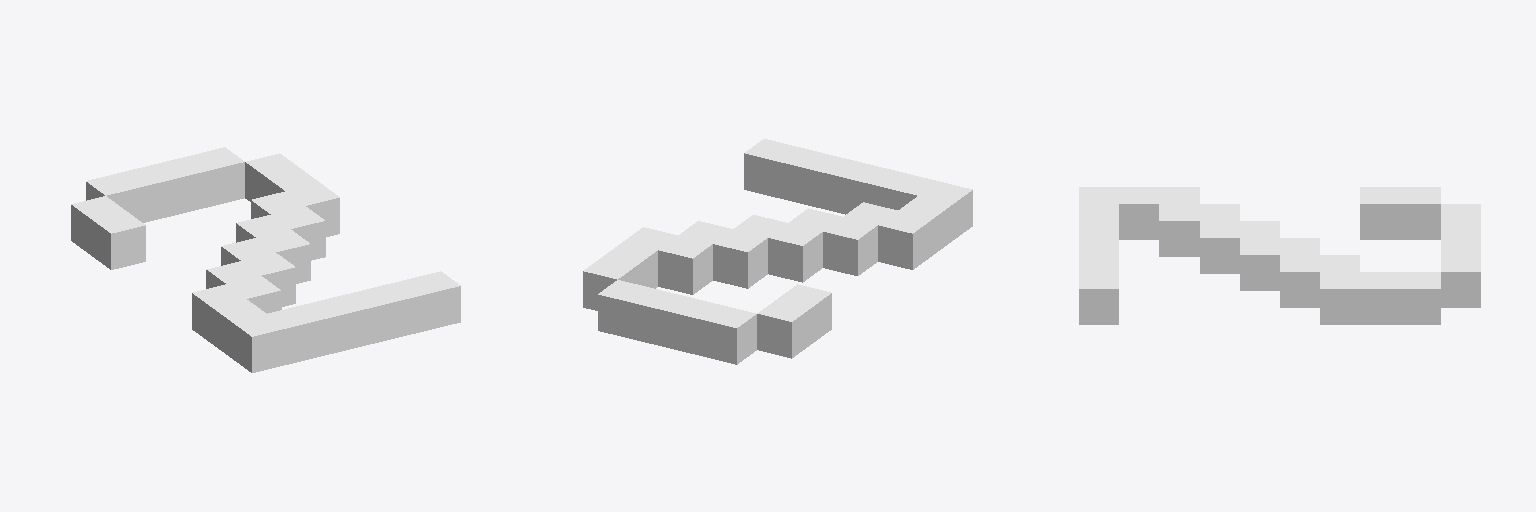
File: numeric2.obj
The picture shows the model from 3 angles: view 1: azimuth 30°, elevation 25°; view 2: azimuth 150°, elevation 25°; view 3: azimuth 270°, elevation 25°; orthographic projection.
Visible parts, largest first — view 1: object 1; view 2: object 1; view 3: object 1.
Part boxes in pixels (bbox=[...]): object 1: bbox=[71, 147, 460, 372]; object 1: bbox=[583, 139, 972, 364]; object 1: bbox=[1079, 187, 1480, 324].
Size of the model in its own units: 0.6 by 0.1 by 1.